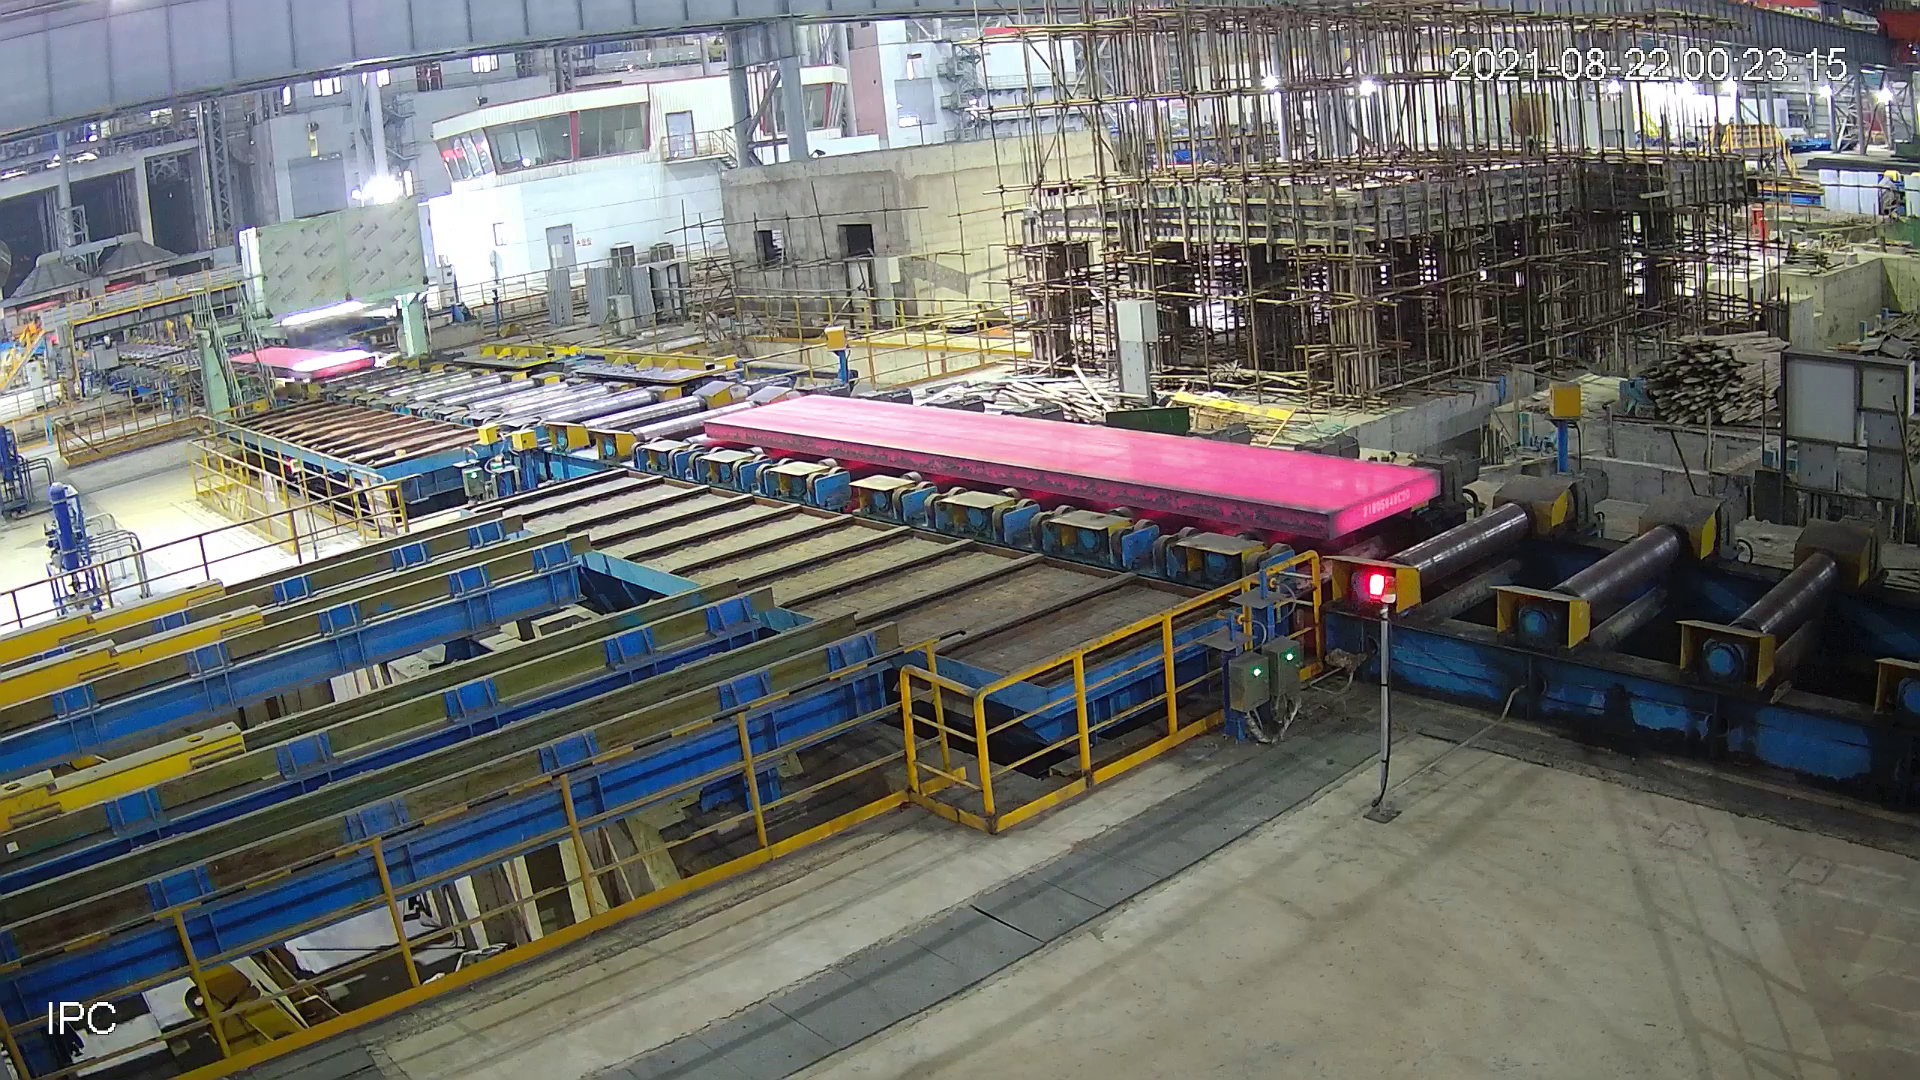slab: (705, 388, 1449, 549), (225, 342, 382, 388)
